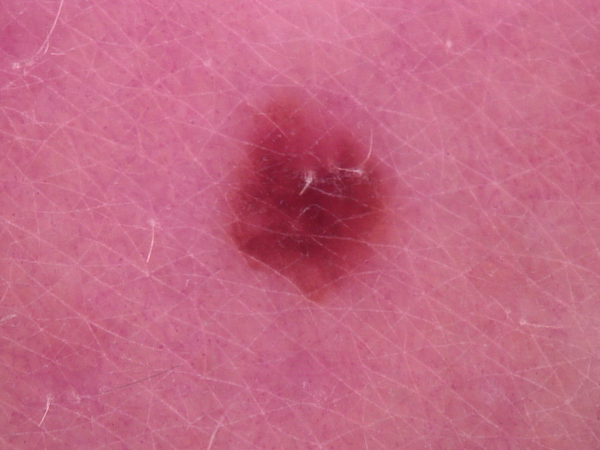Detected Lesion: (214, 89, 401, 307)
